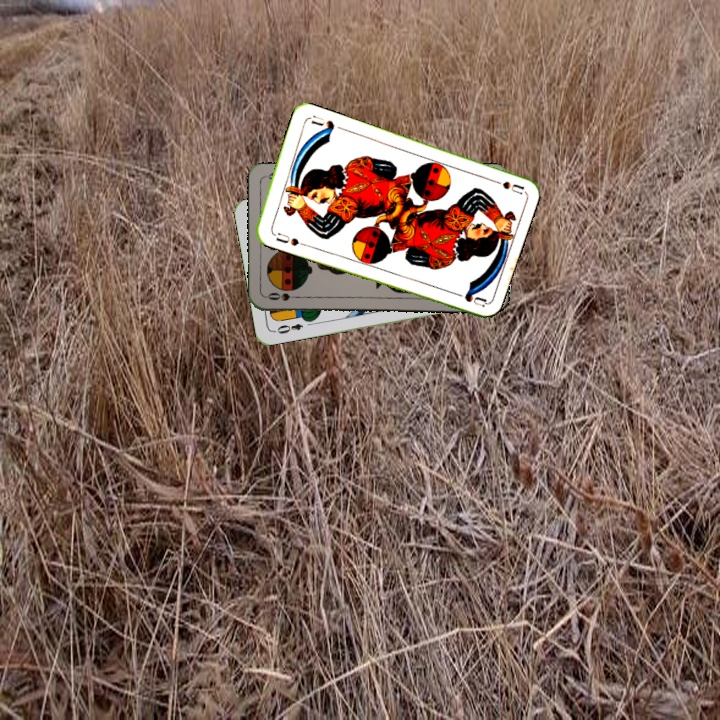EO: (270, 319, 306, 336)
SO: (263, 289, 303, 303)
SU: (485, 175, 525, 197), (272, 228, 307, 248)
